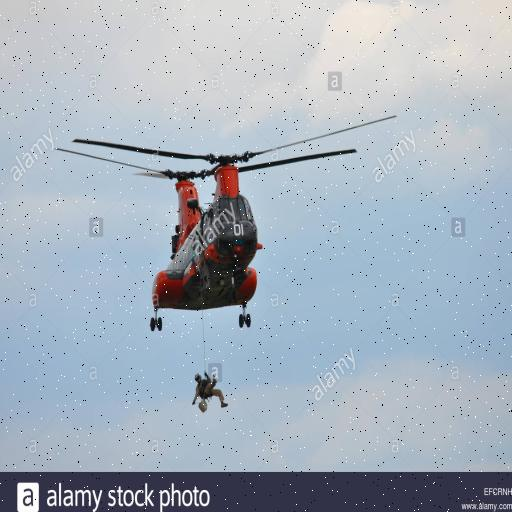helicopter: (56, 117, 396, 332)
